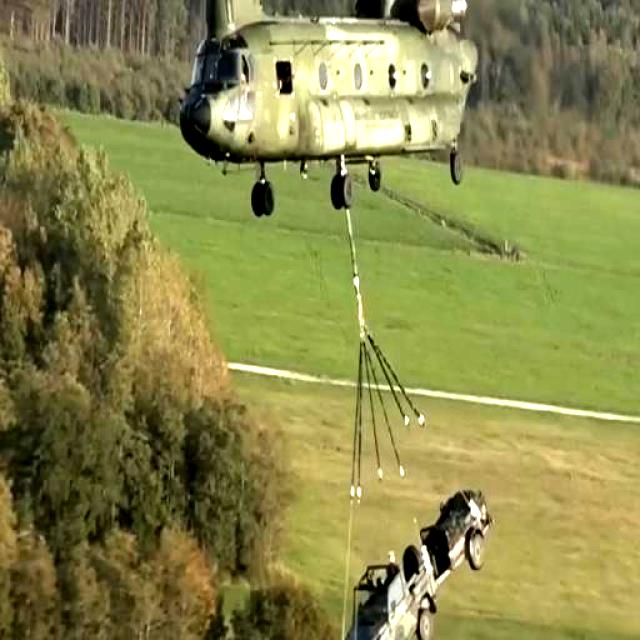drone: (0, 0, 640, 232)
